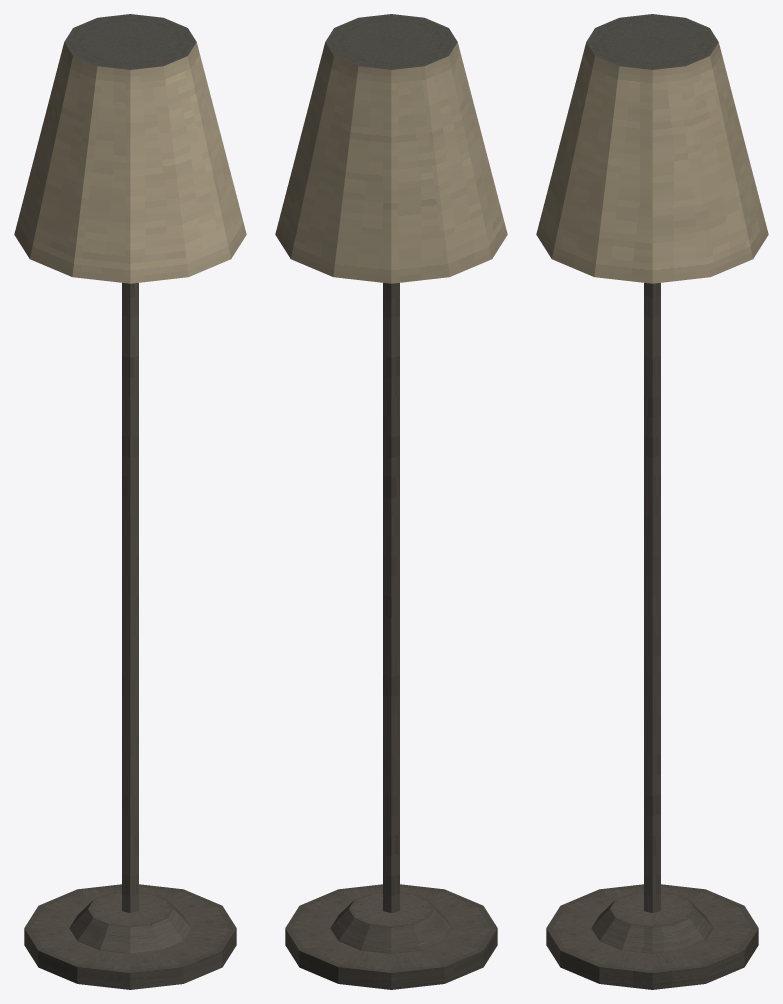
File: lamp.glb
The picture shows the model from 3 angles, left to right: view 1: azimuth 30°, elevation 25°; view 2: azimuth 150°, elevation 25°; view 3: azimuth 270°, elevation 25°; orthographic projection.
Parts seen in each view (by area): view 1: core_lamp; view 2: core_lamp; view 3: core_lamp.
Boxes of the visible parts, x1,y1,x2,y2 form: core_lamp: (14, 14, 246, 989); core_lamp: (275, 14, 507, 989); core_lamp: (536, 14, 768, 989).
Size of the model in its own units: 0.35 by 1.5 by 0.35.
Materials: 1 (1 with a texture image).
